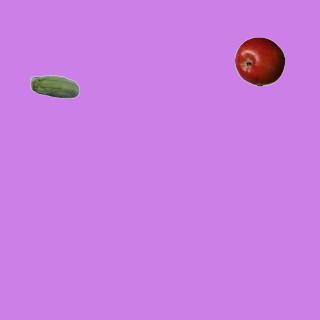Apple Braeburn: (234, 36, 284, 86)
Corn Husk: (29, 63, 79, 113)
